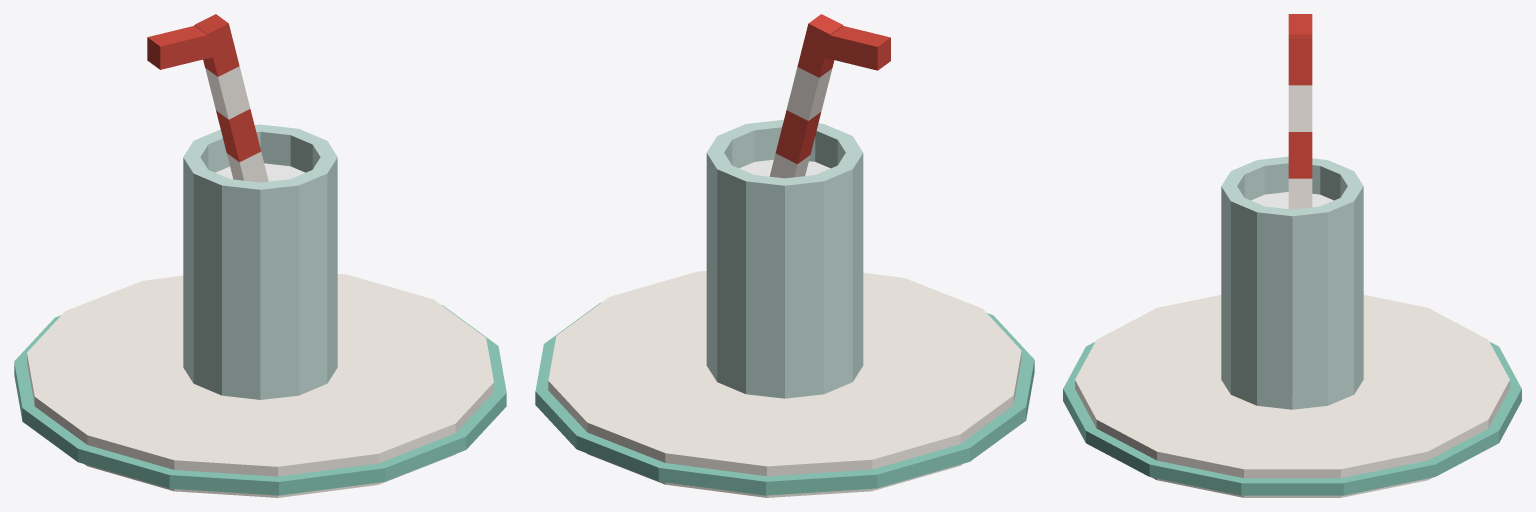
The model's file is CatCafe_Menu_Milk.glb.
The picture shows the model from 3 angles, left to right: view 1: azimuth 30°, elevation 25°; view 2: azimuth 150°, elevation 25°; view 3: azimuth 270°, elevation 25°; orthographic projection. The views are drawn at different scales.
Visible parts, largest first — view 1: CatCafe_Menu_Milk_Plate, CatCafe_Menu_Milk; view 2: CatCafe_Menu_Milk_Plate, CatCafe_Menu_Milk; view 3: CatCafe_Menu_Milk_Plate, CatCafe_Menu_Milk.
Part boxes in pixels (<box>): CatCafe_Menu_Milk_Plate: <box>14,274,506,497</box>; CatCafe_Menu_Milk: <box>147,14,337,399</box>; CatCafe_Menu_Milk_Plate: <box>535,271,1034,497</box>; CatCafe_Menu_Milk: <box>706,14,890,398</box>; CatCafe_Menu_Milk_Plate: <box>1063,295,1521,497</box>; CatCafe_Menu_Milk: <box>1221,14,1363,409</box>.
Size of the model in its own units: 1.13 by 1.03 by 1.16.
Materials: 1 (1 with a texture image).
